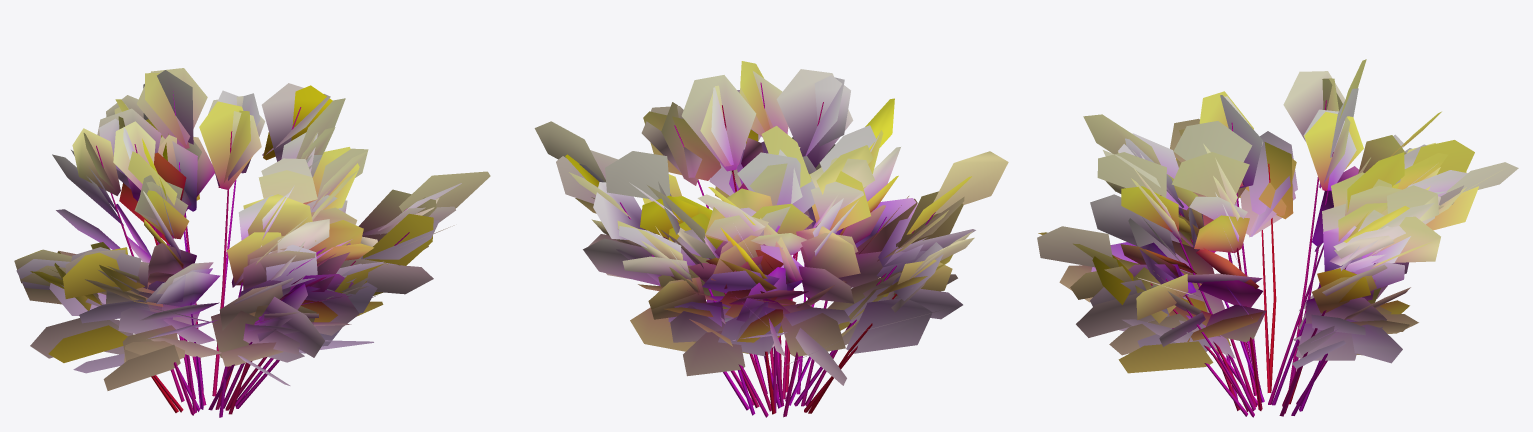
Rendered from shrub_hazel.glb.
3 views of the same model, side by side, from view 1: azimuth 30°, elevation 25°; view 2: azimuth 150°, elevation 25°; view 3: azimuth 270°, elevation 25° (orthographic). The views are drawn at different scales.
Parts seen in each view (by area): view 1: shrub_hazel_v2_lod0, shrub_hazel_v1_lod0, shrub_hazel_v0_lod0; view 2: shrub_hazel_v1_lod0, shrub_hazel_v0_lod0, shrub_hazel_v2_lod0; view 3: shrub_hazel_v0_lod0, shrub_hazel_v1_lod0, shrub_hazel_v2_lod0.
Part boxes in pixels (<box>): shrub_hazel_v2_lod0: <box>102,98,490,415</box>; shrub_hazel_v1_lod0: <box>52,68,454,411</box>; shrub_hazel_v0_lod0: <box>14,90,397,417</box>; shrub_hazel_v1_lod0: <box>534,69,1008,417</box>; shrub_hazel_v0_lod0: <box>569,126,974,417</box>; shrub_hazel_v2_lod0: <box>641,61,975,411</box>; shrub_hazel_v0_lod0: <box>1090,59,1518,415</box>; shrub_hazel_v1_lod0: <box>1037,71,1474,416</box>; shrub_hazel_v2_lod0: <box>1038,91,1463,417</box>.
Size of what is drawn, in the model's own units: 4 by 3.17 by 4.07.
